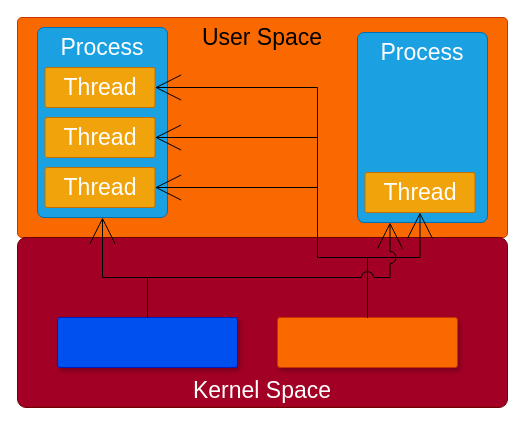
This 525x425 diagram has some shape labels left out. The shapes that lost their labels are listed below. From the top down, each one's centre as x and y in pixels, then its label:
At point (148, 343): "Process Table".
At point (368, 343): "Thread Table".
